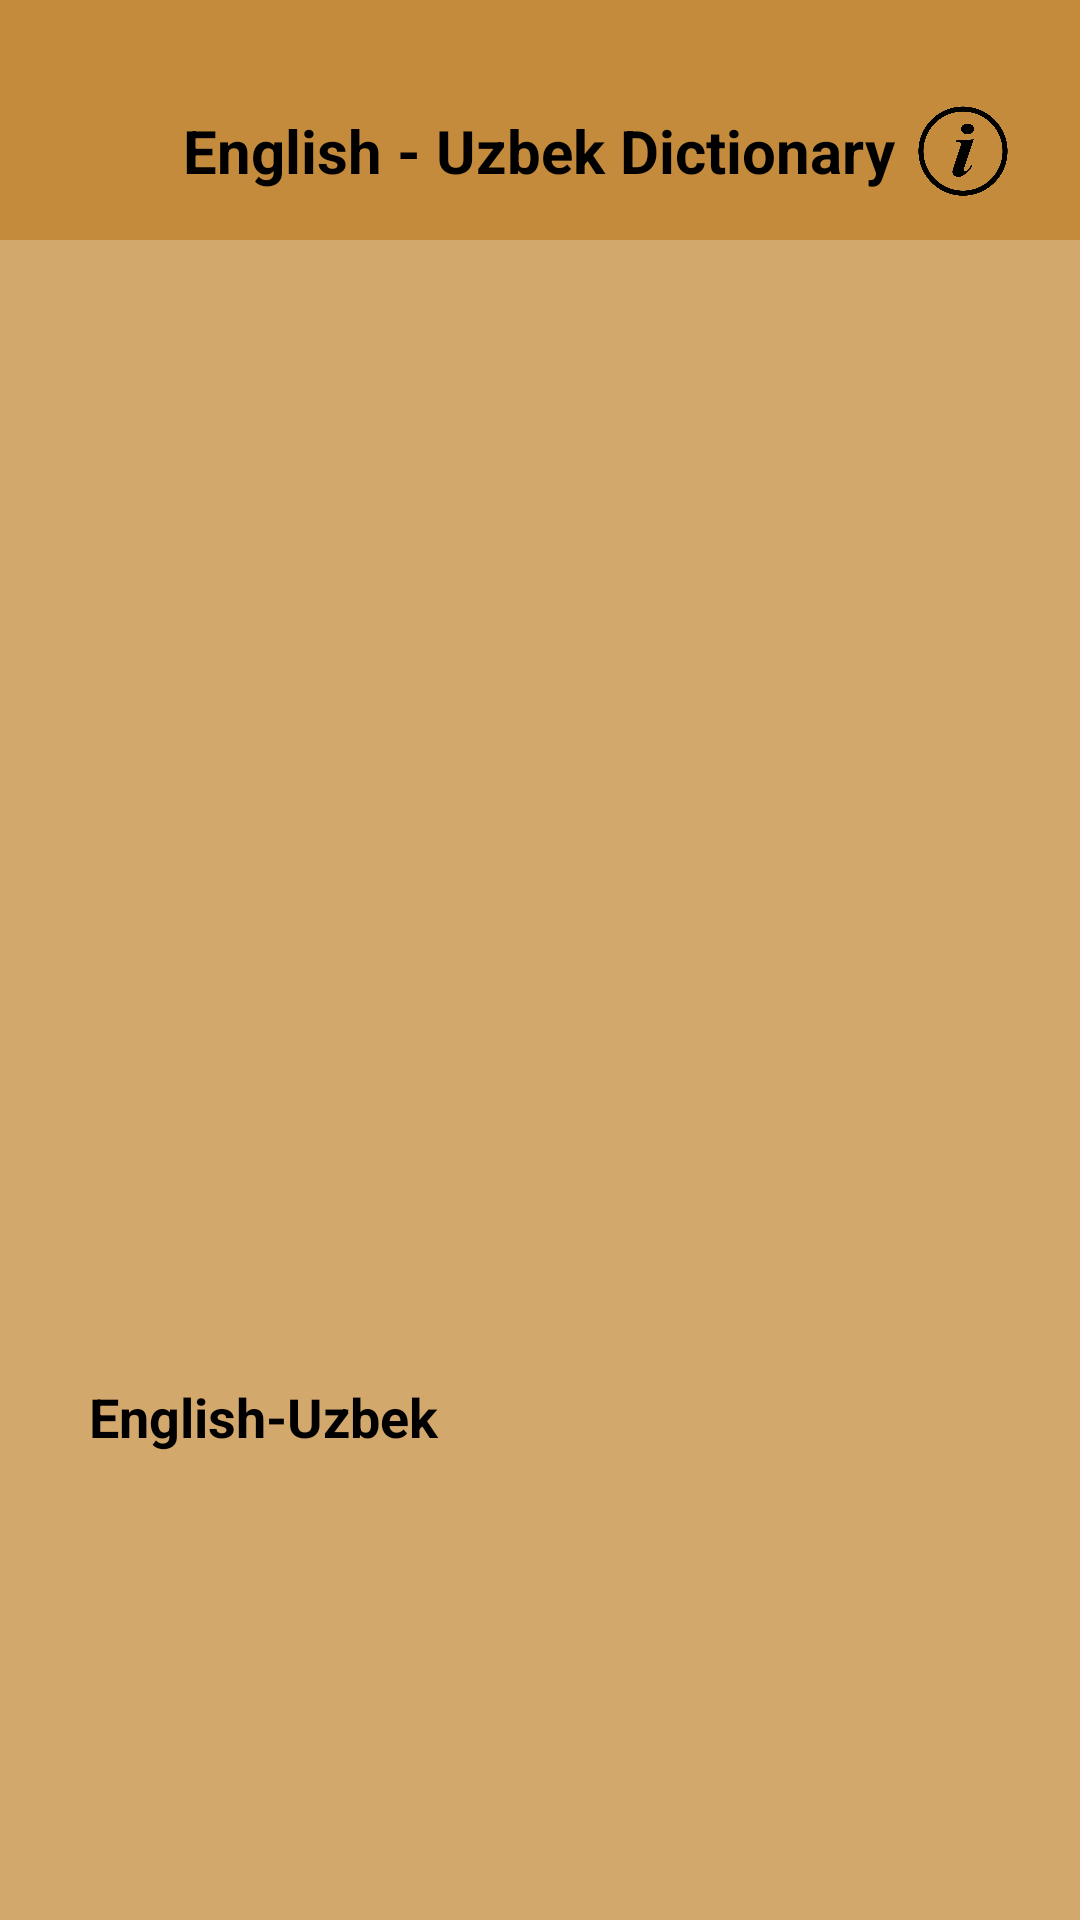

Icons on this 1080x1920 Android screen, each with its box as (x1, y1, x2, y2):
info: (918, 106, 1008, 196)
